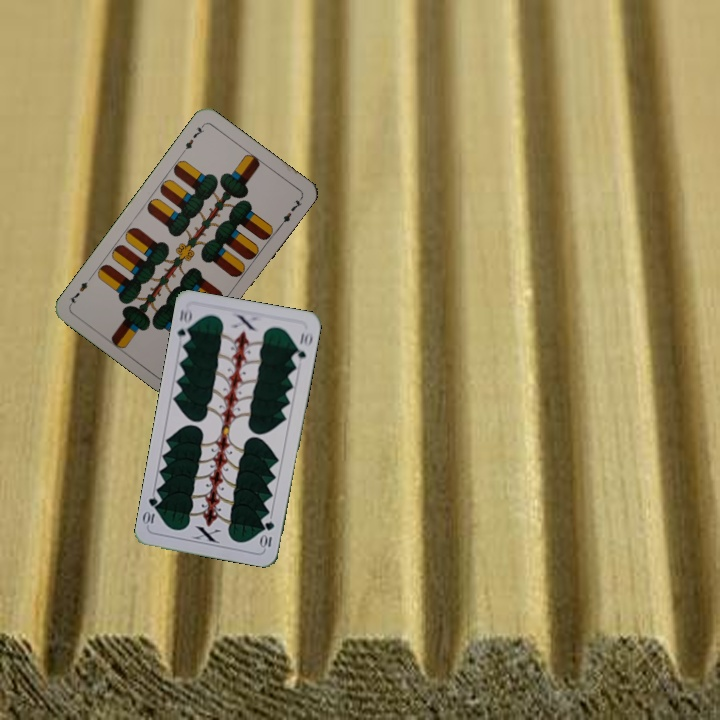E7: (178, 120, 207, 156)
G10: (173, 304, 195, 346), (257, 517, 277, 551)
